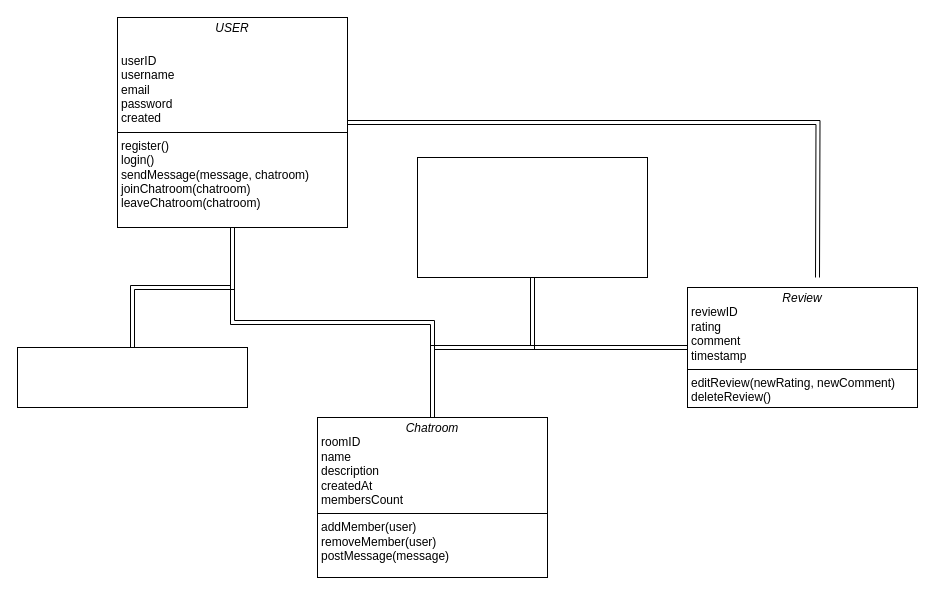
Image size: 935x595. Some labels were removed from this diagram. Here are the shapes that lost their labels. From the top down, the centre of each, then its label:
At (x=532, y=217): "Message messageID content timestamp editMessage(newContent) deleteMessage()".
At (x=132, y=377): "Role roleID roleName".
